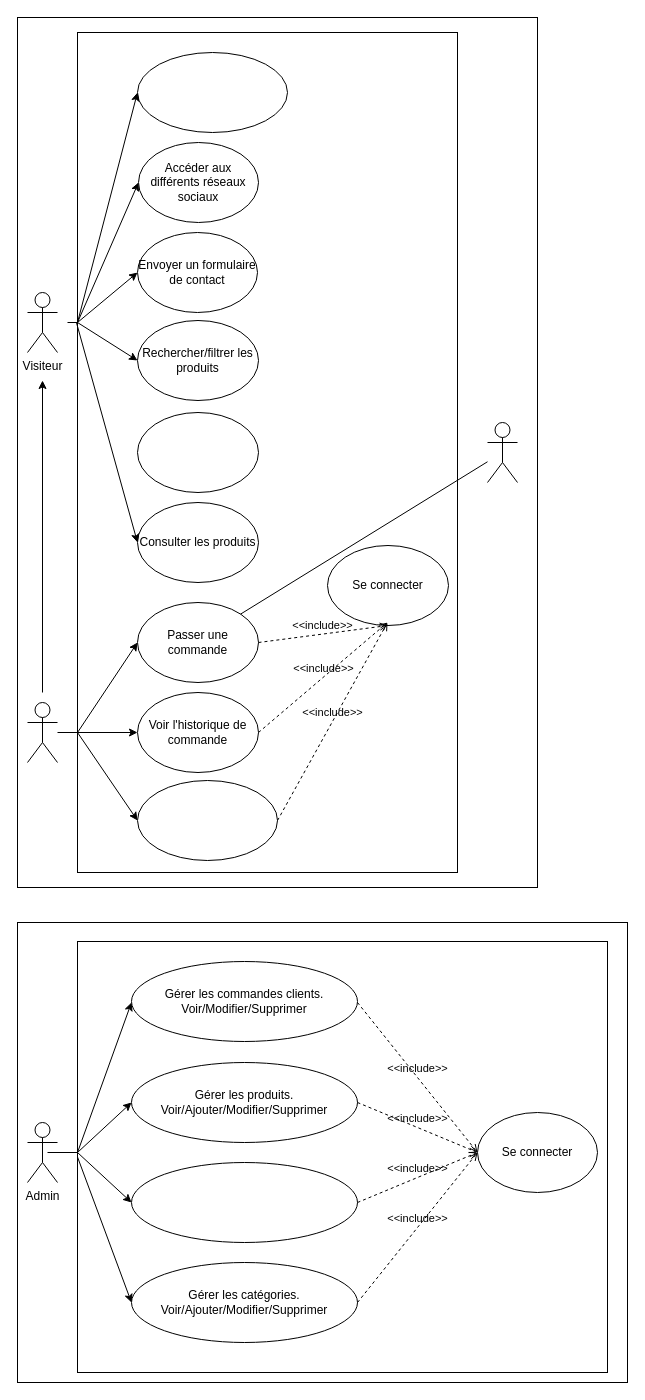
This 645x1400 diagram has some shape labels left out. Here are the shapes that lost their labels. From the top down, the centre of each, then its label:
At point 212,92: "Consulter les différents conditions de livraison/paiement/vente".
At point 197,452: "Ajouter/modifier des produits au panier".
At point 502,452: "Stripe".
At point 42,732: "Client".
At point 207,820: "Modifier/Supprimer ses infos personnelles".
At point 244,1202: "Gérer les utilisateurs. Voir/Ajouter/Modifier/Supprimer".
